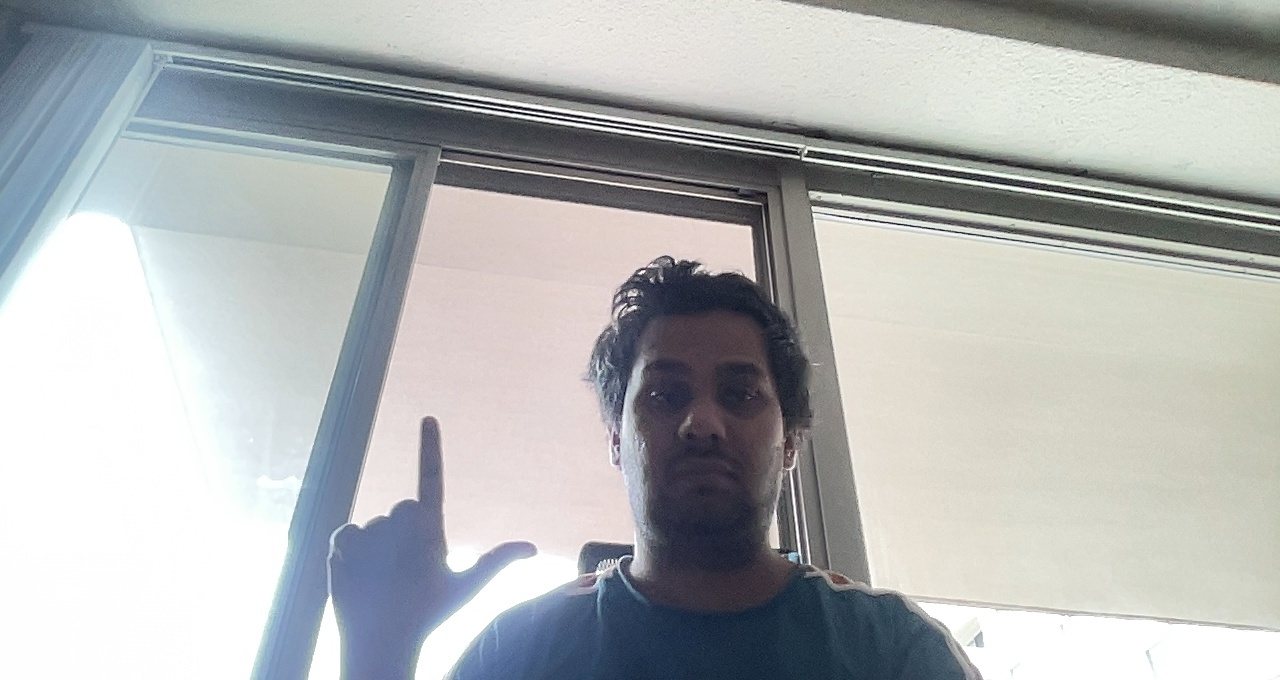L: (317, 409, 540, 631)
